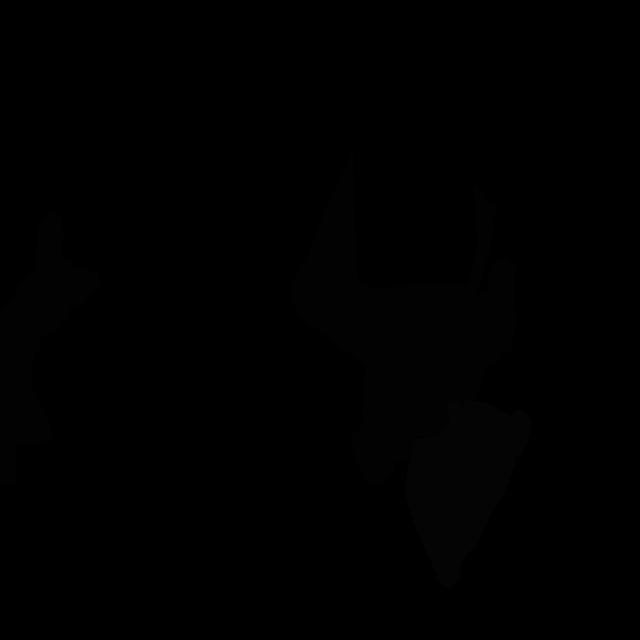cardboard: (352, 258, 517, 486), (0, 212, 100, 487), (383, 185, 498, 397), (292, 149, 366, 367)
soft_plastic: (406, 400, 531, 588)
